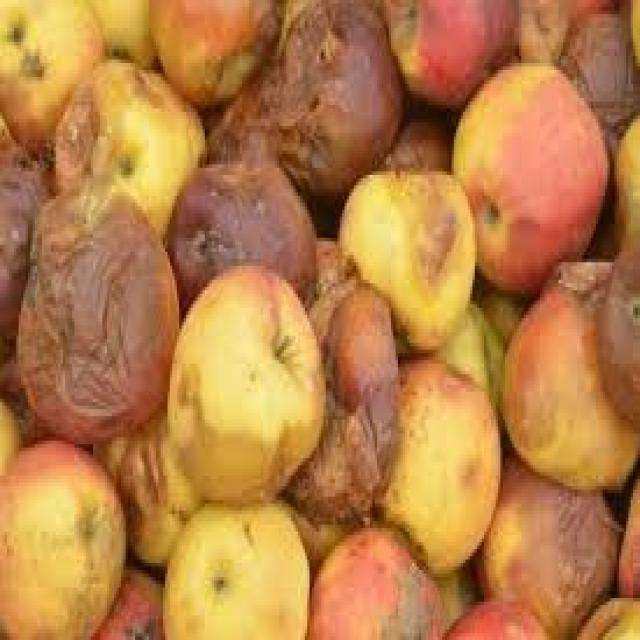organic waste: (0, 0, 638, 637), (14, 175, 179, 420), (170, 262, 323, 497), (454, 59, 610, 280), (498, 269, 633, 479), (53, 56, 205, 231), (272, 0, 408, 189), (0, 437, 123, 636), (335, 175, 473, 346), (300, 272, 391, 524), (486, 451, 617, 616), (163, 161, 314, 304), (391, 353, 496, 556), (163, 500, 307, 637), (307, 511, 442, 636), (86, 423, 200, 560), (0, 0, 102, 150), (398, 301, 500, 430), (379, 0, 518, 94), (144, 0, 279, 87), (0, 164, 49, 388), (563, 18, 633, 122), (600, 255, 638, 409), (93, 570, 175, 637), (444, 594, 568, 636), (614, 108, 638, 304), (388, 98, 454, 168), (474, 273, 530, 353), (93, 0, 156, 66), (204, 112, 274, 168), (516, 0, 572, 63), (619, 458, 638, 619), (570, 594, 638, 636), (0, 122, 49, 168), (619, 0, 637, 66), (314, 241, 333, 294)
